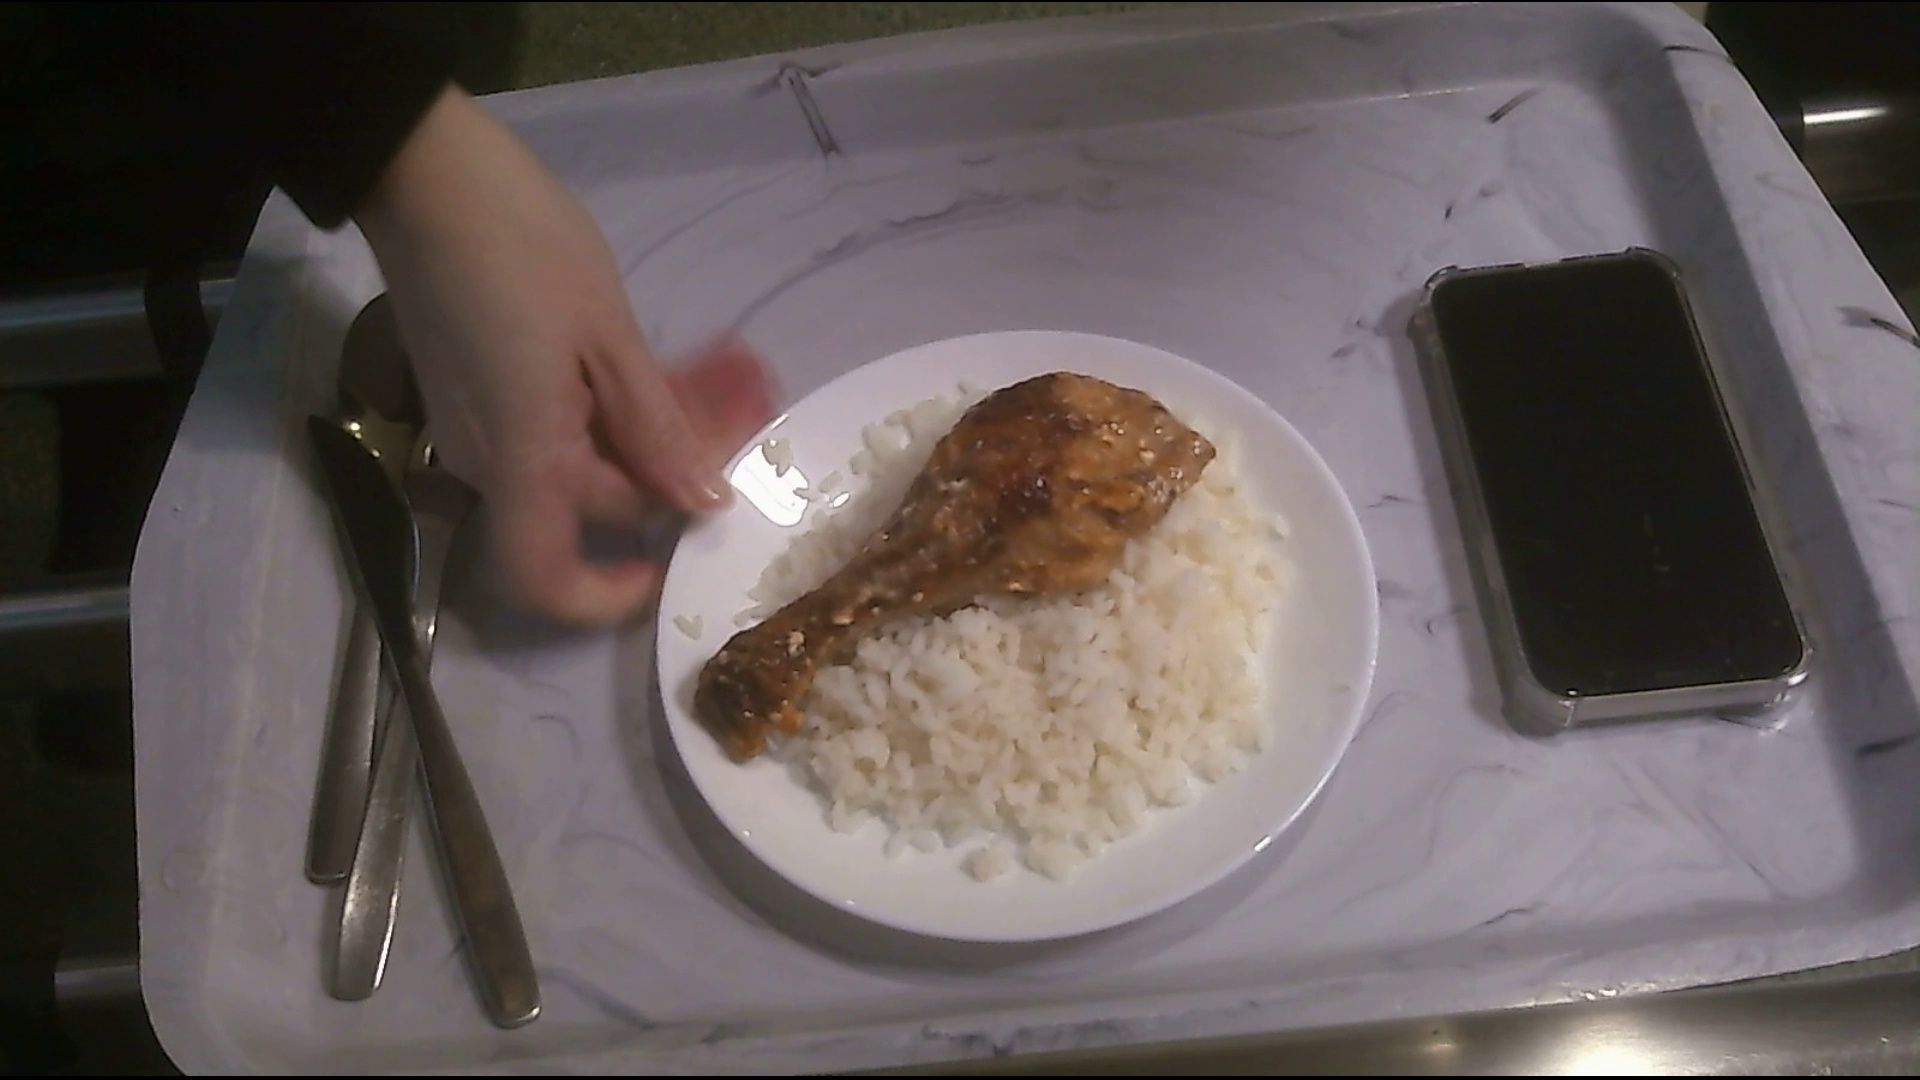cutlery: (328, 285, 542, 1026)
other: (1412, 249, 1815, 731)
plate: (659, 330, 1379, 944)
